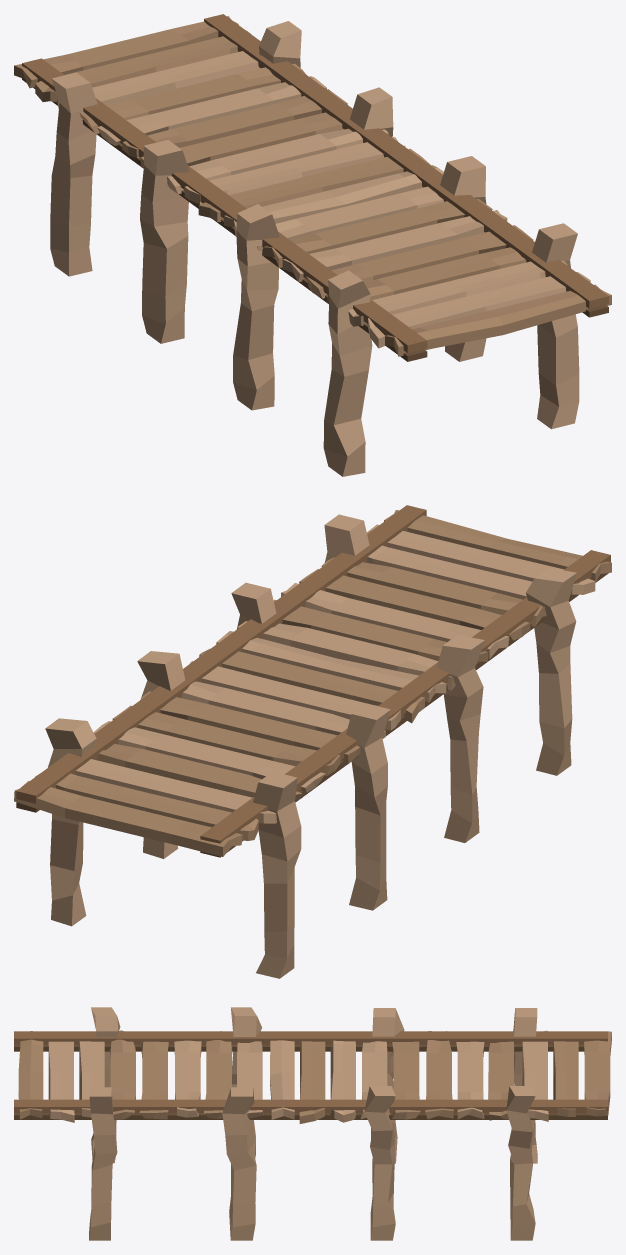
Rendered from low-poly_island_dock_platform.glb.
3 views of the same model, one above another, from view 1: azimuth 30°, elevation 25°; view 2: azimuth 150°, elevation 25°; view 3: azimuth 270°, elevation 25° (orthographic). The views are drawn at different scales.
Visible parts, largest first — view 1: p.007_2, BOTTOM_SIDE_4, p.008_3, p.005_0, p.006_1, TOP_SIDE_5, p.001_27, Plank.001_6, Plank.006_11, Plank.028_23, Plank.021_16, Plank.026_21 (+18 smaller); view 2: BOTTOM_SIDE_4, p.005_0, p.008_3, p.007_2, p.006_1, TOP_SIDE_5, Plank.028_23, p.004_30, Plank.008_13, Plank.005_10, Plank.023_18, Plank.026_21 (+18 smaller); view 3: TOP_SIDE_5, BOTTOM_SIDE_4, p.002_28, p.003_29, p.004_30, p.001_27, Plank.028_23, Plank.026_21, Plank.021_16, Plank.002_7, Plank.023_18, Plank.022_17 (+19 smaller).
Part boxes in pixels (x1=…): p.007_2: x1=140, y1=140, x2=189, y2=343; BOTTOM_SIDE_4: x1=204, y1=14, x2=608, y2=308; p.008_3: x1=50, y1=72, x2=97, y2=276; p.005_0: x1=323, y1=270, x2=372, y2=476; p.006_1: x1=233, y1=204, x2=279, y2=410; TOP_SIDE_5: x1=22, y1=58, x2=427, y2=352; p.001_27: x1=532, y1=223, x2=579, y2=429; Plank.001_6: x1=385, y1=284, x2=611, y2=356; Plank.006_11: x1=282, y1=210, x2=507, y2=282; Plank.028_23: x1=14, y1=16, x2=238, y2=88; Plank.021_16: x1=97, y1=76, x2=326, y2=145; Plank.026_21: x1=198, y1=148, x2=431, y2=221; BOTTOM_SIDE_4: x1=16, y1=505, x2=426, y2=803; p.005_0: x1=526, y1=567, x2=576, y2=775; p.008_3: x1=253, y1=771, x2=301, y2=978; p.007_2: x1=346, y1=703, x2=390, y2=910; p.006_1: x1=437, y1=635, x2=484, y2=842; TOP_SIDE_5: x1=200, y1=550, x2=610, y2=843; Plank.028_23: x1=14, y1=781, x2=242, y2=856; p.004_30: x1=45, y1=718, x2=96, y2=926; Plank.008_13: x1=237, y1=621, x2=455, y2=690; Plank.005_10: x1=299, y1=569, x2=530, y2=640; Plank.023_18: x1=140, y1=691, x2=360, y2=763; Plank.026_21: x1=199, y1=648, x2=424, y2=723; TOP_SIDE_5: x1=14, y1=1031, x2=607, y2=1044; BOTTOM_SIDE_4: x1=14, y1=1099, x2=607, y2=1112; p.002_28: x1=222, y1=1087, x2=256, y2=1240; p.003_29: x1=364, y1=1086, x2=395, y2=1240; p.004_30: x1=506, y1=1086, x2=535, y2=1240; p.001_27: x1=89, y1=1087, x2=117, y2=1240; Plank.028_23: x1=584, y1=1031, x2=611, y2=1116; Plank.026_21: x1=299, y1=1041, x2=325, y2=1123; Plank.021_16: x1=456, y1=1041, x2=484, y2=1119; Plank.002_7: x1=48, y1=1041, x2=74, y2=1122; Plank.023_18: x1=392, y1=1041, x2=420, y2=1119; Plank.022_17: x1=425, y1=1030, x2=453, y2=1119.
Size of the model in its own units: 6.47 by 4.9 by 18.06.
